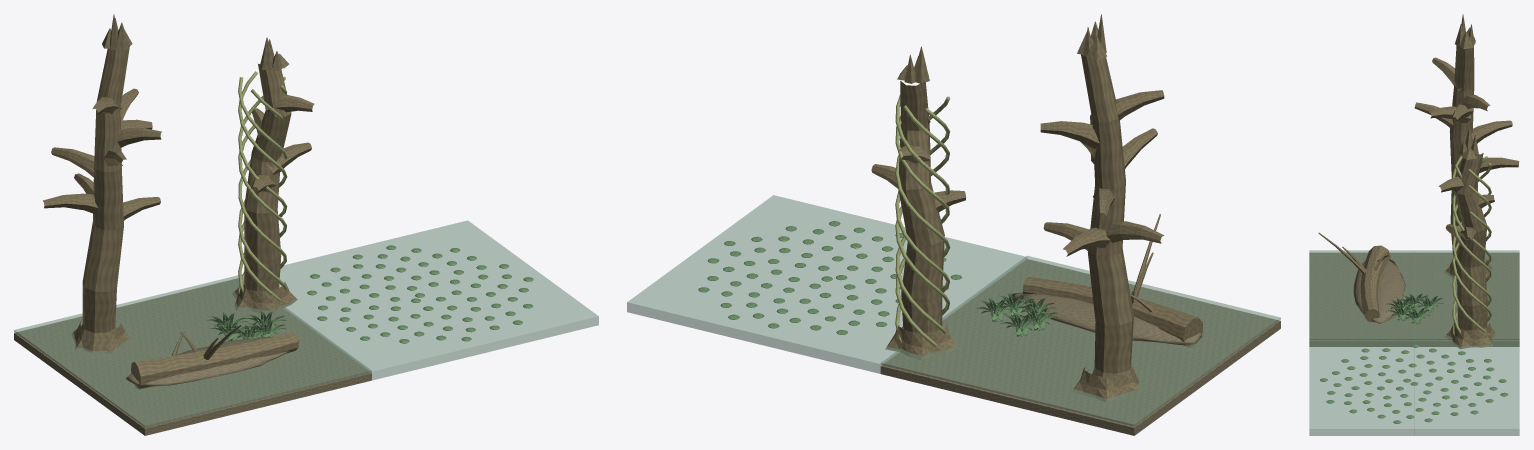
Rendered from drowned_forest_swamp_and_mangrove_22673.glb.
3 views of the same model, side by side, from view 1: azimuth 30°, elevation 25°; view 2: azimuth 150°, elevation 25°; view 3: azimuth 270°, elevation 25° (orthographic). The views are drawn at different scales.
Parts seen in each view (by area): view 1: 005-duckweed-tile/0, 000-open-water-tile/0, 000-open-water-tile/1, 001-drowned-snag/0, 002-strangler-vine-trunk/0, 003-half-sunk-log/1, 003-half-sunk-log/0, 002-strangler-vine-trunk/4, 002-strangler-vine-trunk/1, 002-strangler-vine-trunk/3, 002-strangler-vine-trunk/2, 002-strangler-vine-trunk/5; view 2: 005-duckweed-tile/0, 000-open-water-tile/0, 000-open-water-tile/1, 001-drowned-snag/0, 002-strangler-vine-trunk/0, 003-half-sunk-log/1, 003-half-sunk-log/0, 002-strangler-vine-trunk/2, 002-strangler-vine-trunk/5, 002-strangler-vine-trunk/4, 002-strangler-vine-trunk/1, 002-strangler-vine-trunk/3; view 3: 005-duckweed-tile/0, 000-open-water-tile/0, 000-open-water-tile/1, 002-strangler-vine-trunk/0, 001-drowned-snag/0, 003-half-sunk-log/1, 003-half-sunk-log/0, 002-strangler-vine-trunk/5, 002-strangler-vine-trunk/3, 002-strangler-vine-trunk/4, 002-strangler-vine-trunk/1, 002-strangler-vine-trunk/2 (+4 smaller).
Part boxes in pixels (bbox=[...]): 005-duckweed-tile/0: bbox=[279, 220, 598, 380]; 000-open-water-tile/0: bbox=[14, 278, 371, 435]; 000-open-water-tile/1: bbox=[14, 275, 371, 427]; 001-drowned-snag/0: bbox=[43, 14, 161, 353]; 002-strangler-vine-trunk/0: bbox=[232, 37, 314, 314]; 003-half-sunk-log/1: bbox=[131, 325, 298, 389]; 003-half-sunk-log/0: bbox=[125, 336, 299, 386]; 002-strangler-vine-trunk/4: bbox=[238, 71, 287, 301]; 002-strangler-vine-trunk/1: bbox=[238, 77, 287, 289]; 002-strangler-vine-trunk/3: bbox=[238, 89, 286, 268]; 002-strangler-vine-trunk/2: bbox=[238, 76, 287, 292]; 002-strangler-vine-trunk/5: bbox=[238, 85, 286, 294]; 005-duckweed-tile/0: bbox=[627, 195, 1026, 373]; 000-open-water-tile/0: bbox=[880, 259, 1280, 435]; 000-open-water-tile/1: bbox=[880, 255, 1280, 426]; 001-drowned-snag/0: bbox=[1040, 14, 1164, 402]; 002-strangler-vine-trunk/0: bbox=[871, 46, 966, 360]; 003-half-sunk-log/1: bbox=[1022, 214, 1202, 347]; 003-half-sunk-log/0: bbox=[1011, 292, 1201, 344]; 002-strangler-vine-trunk/2: bbox=[895, 95, 949, 333]; 002-strangler-vine-trunk/5: bbox=[895, 116, 949, 346]; 002-strangler-vine-trunk/4: bbox=[895, 105, 949, 315]; 002-strangler-vine-trunk/1: bbox=[895, 108, 949, 292]; 002-strangler-vine-trunk/3: bbox=[895, 96, 950, 343]; 005-duckweed-tile/0: bbox=[1309, 340, 1519, 435]; 000-open-water-tile/0: bbox=[1309, 252, 1519, 346]; 000-open-water-tile/1: bbox=[1309, 250, 1519, 339]; 002-strangler-vine-trunk/0: bbox=[1438, 127, 1496, 348]; 001-drowned-snag/0: bbox=[1414, 14, 1519, 281]; 003-half-sunk-log/1: bbox=[1318, 232, 1390, 322]; 003-half-sunk-log/0: bbox=[1353, 259, 1405, 323]; 002-strangler-vine-trunk/5: bbox=[1452, 165, 1491, 321]; 002-strangler-vine-trunk/3: bbox=[1452, 156, 1491, 335]; 002-strangler-vine-trunk/4: bbox=[1452, 163, 1491, 335]; 002-strangler-vine-trunk/1: bbox=[1452, 156, 1491, 334]; 002-strangler-vine-trunk/2: bbox=[1452, 169, 1491, 305].
Size of the model in its own units: 8 by 5.66 by 4.
Materials: 5 (4 with a texture image).
